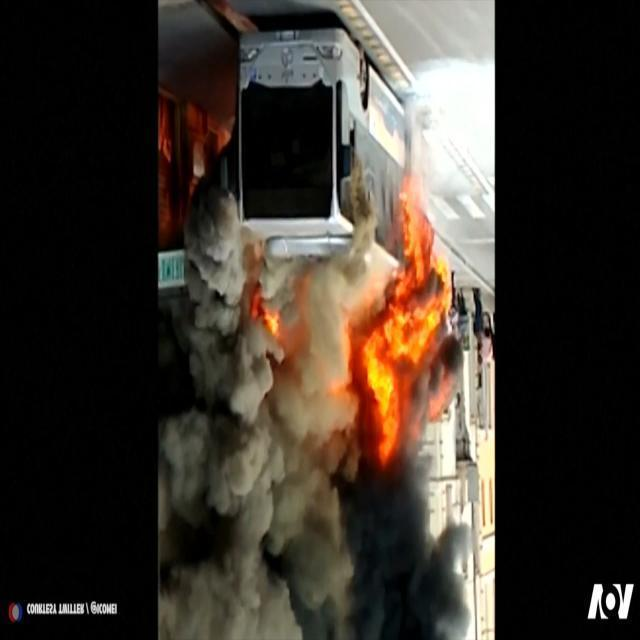fire: (246, 205, 446, 478)
